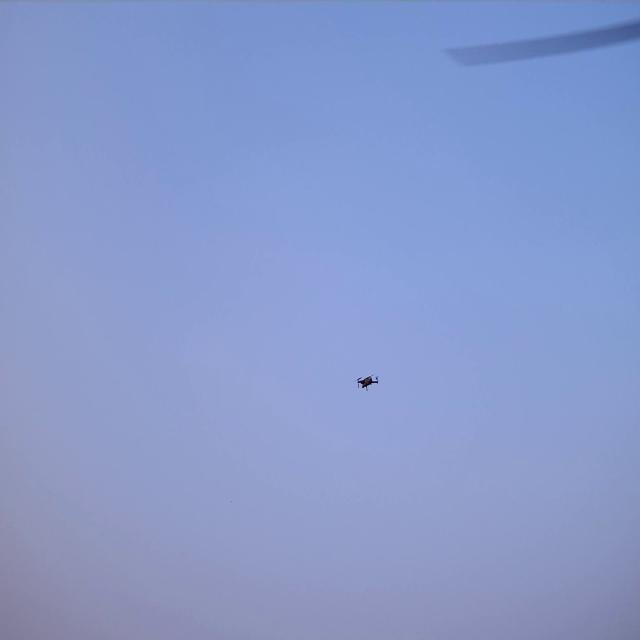UAV: (358, 376, 378, 390)
